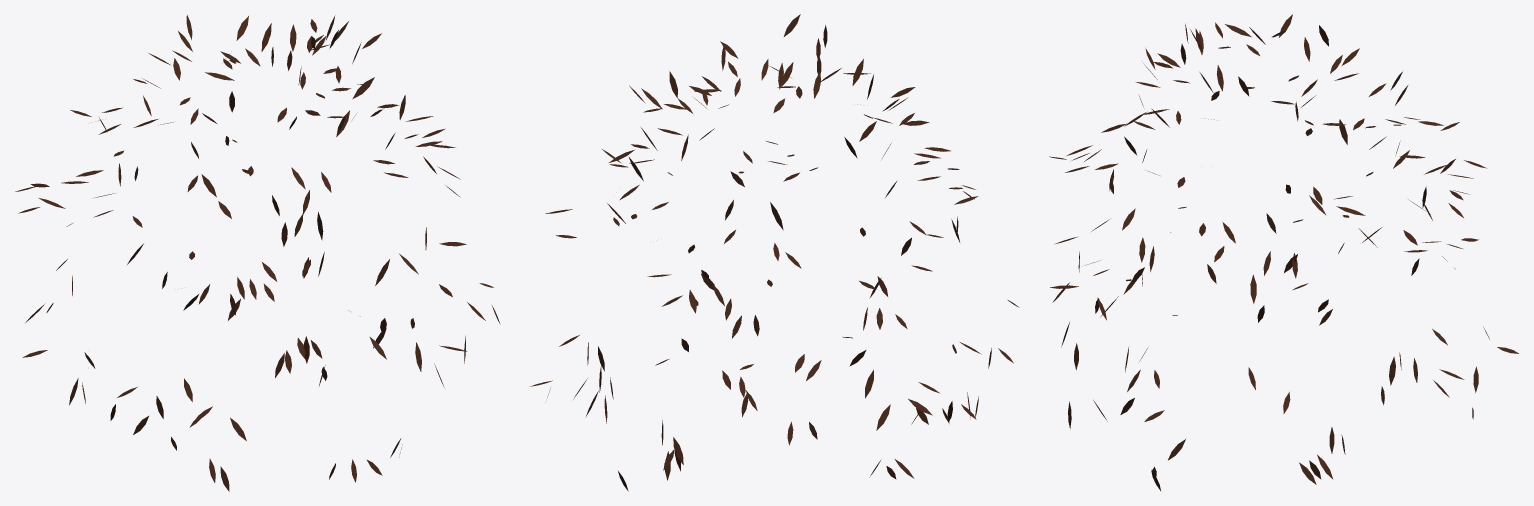
Rendered from winterLeaves.fbx.
The picture shows the model from 3 angles, left to right: view 1: azimuth 30°, elevation 25°; view 2: azimuth 150°, elevation 25°; view 3: azimuth 270°, elevation 25°; orthographic projection.
Parts seen in each view (by area): view 1: leaves.002; view 2: leaves.002; view 3: leaves.002.
Part boxes in pixels (x1=…): leaves.002: x1=15, y1=15, x2=500, y2=491; leaves.002: x1=529, y1=14, x2=1019, y2=491; leaves.002: x1=1049, y1=14, x2=1518, y2=490.
Bounding box in the file's own units: 589 × 605 × 602.
